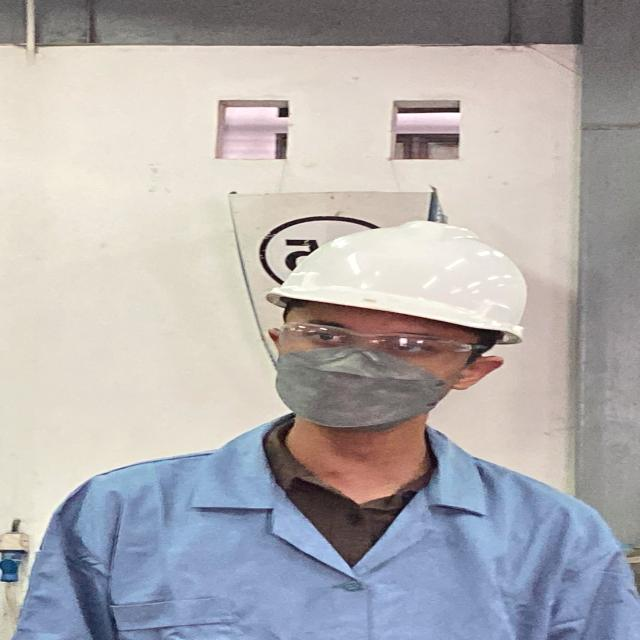face_mask: (262, 315, 473, 432)
glasses: (266, 318, 497, 369)
head_helmet: (258, 215, 532, 330)
person: (50, 215, 635, 640)
